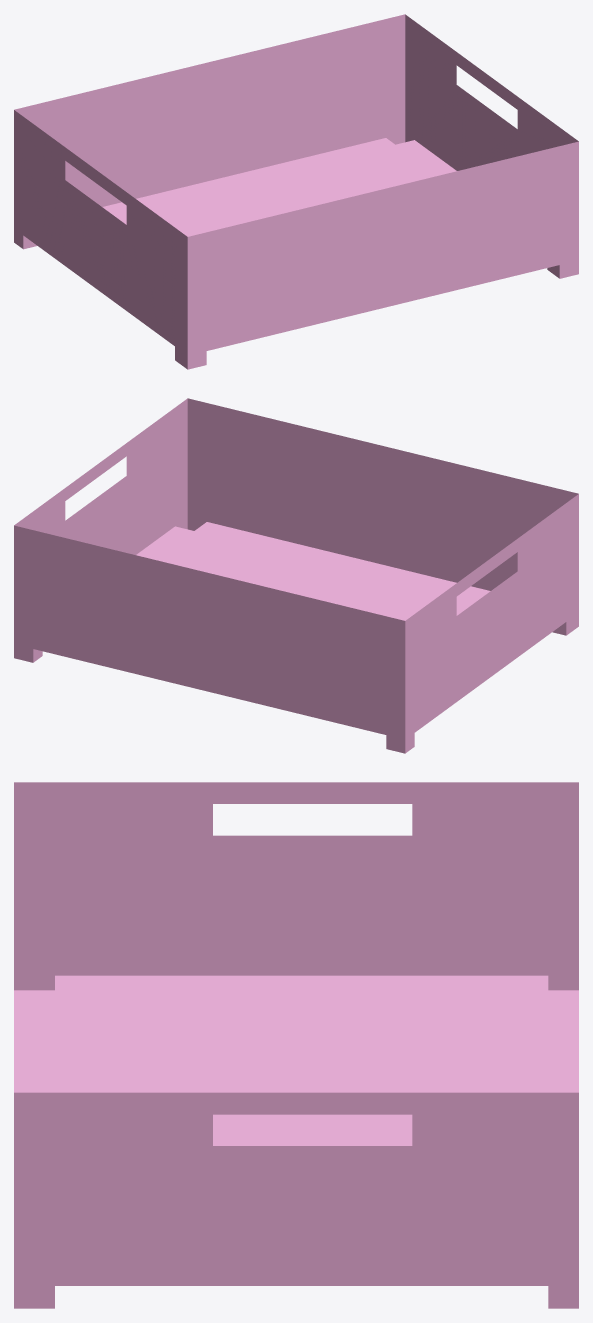
The model's file is mueble.fbx.
3 views of the same model, one above another, from view 1: azimuth 30°, elevation 25°; view 2: azimuth 150°, elevation 25°; view 3: azimuth 270°, elevation 25° (orthographic). The views are drawn at different scales.
Parts seen in each view (by area): view 1: Cubo.022; view 2: Cubo.022; view 3: Cubo.022.
Boxes of the visible parts, bbox=[...] form: Cubo.022: bbox=[14, 14, 578, 369]; Cubo.022: bbox=[14, 398, 578, 753]; Cubo.022: bbox=[14, 782, 578, 1308].
Size of the model in its own units: 201 by 65.16 by 155.
